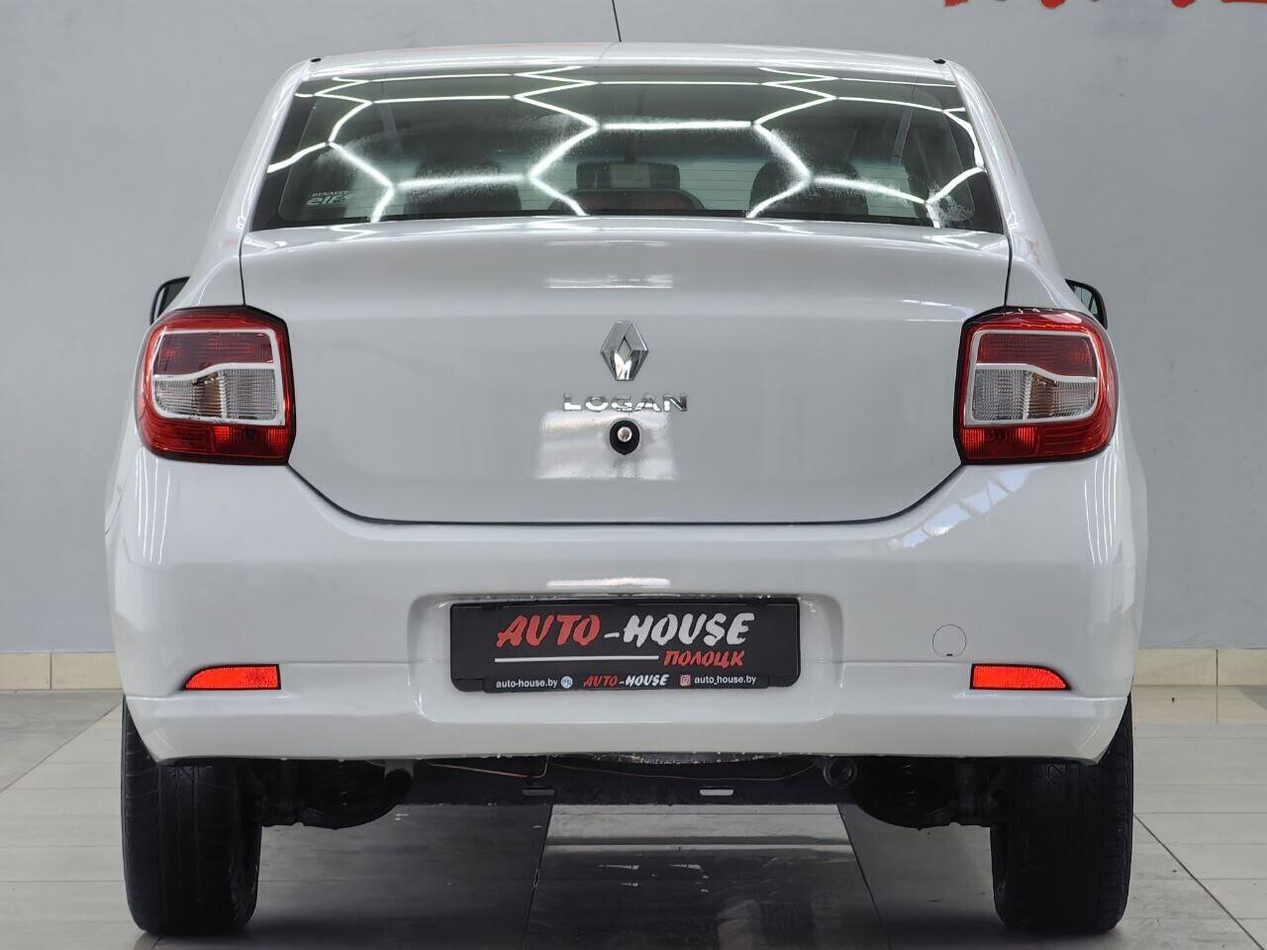Logan_2013-2018: (109, 31, 1152, 940)
